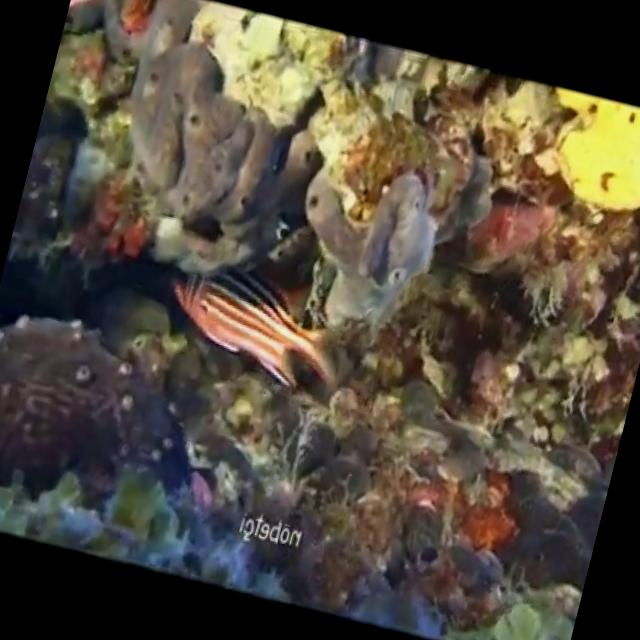Asker Baligi: (146, 237, 398, 405)
